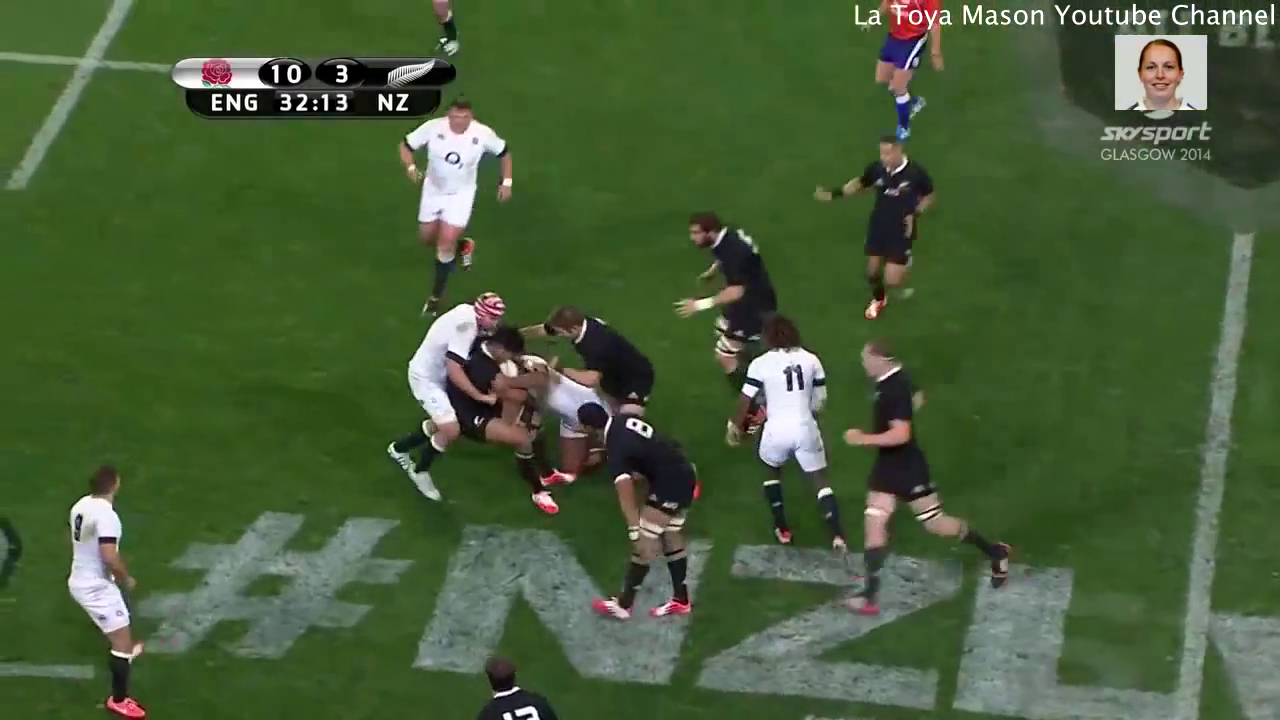player: (833, 336, 1013, 616), (573, 396, 702, 622), (731, 318, 851, 558), (383, 284, 511, 504), (405, 96, 525, 308), (809, 138, 940, 324), (67, 460, 146, 720), (547, 298, 666, 420), (673, 205, 764, 344), (858, 29, 950, 138), (469, 654, 563, 720)
ruck: (413, 315, 677, 520)
